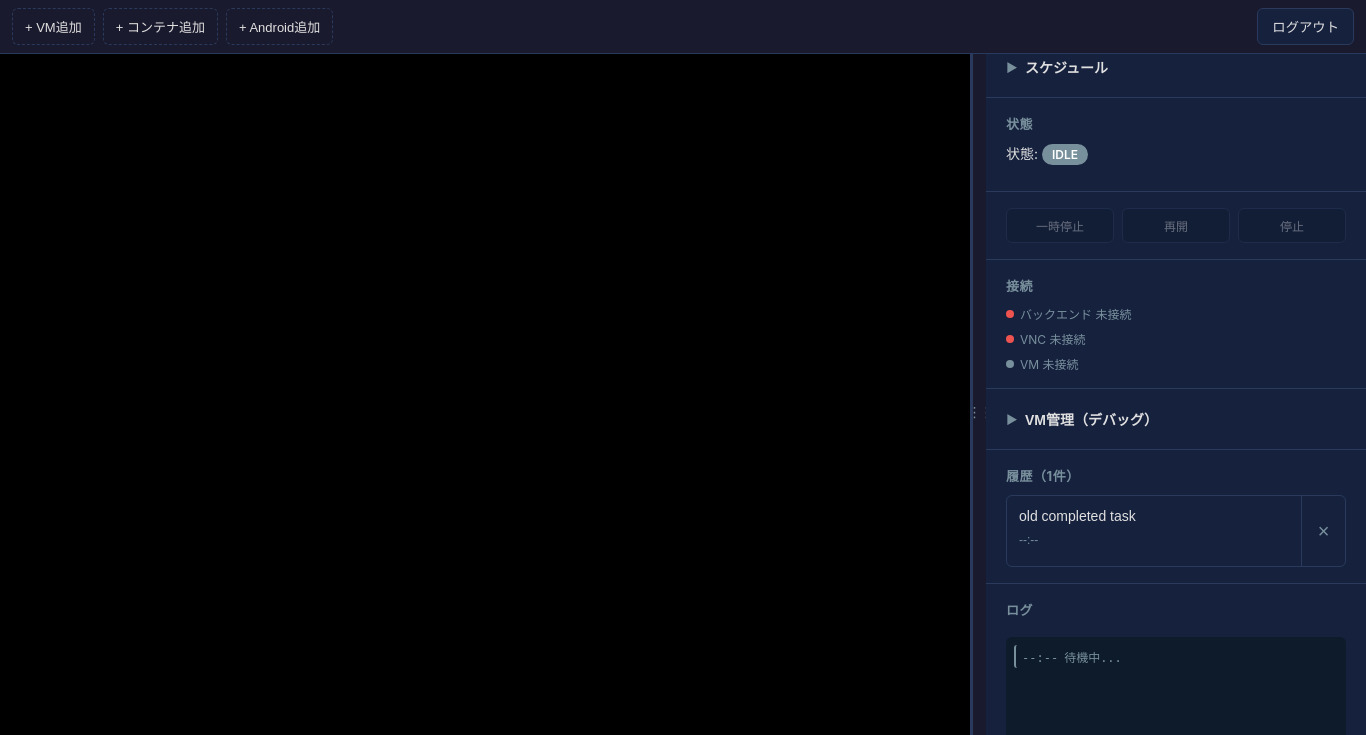
Test case: a late initial VM list cannot switch away from an archived history selection
(page scrolled)
Click the button titled "old completed task" at (1077, 516), box [1007, 496, 1301, 566]
(page scrolled)
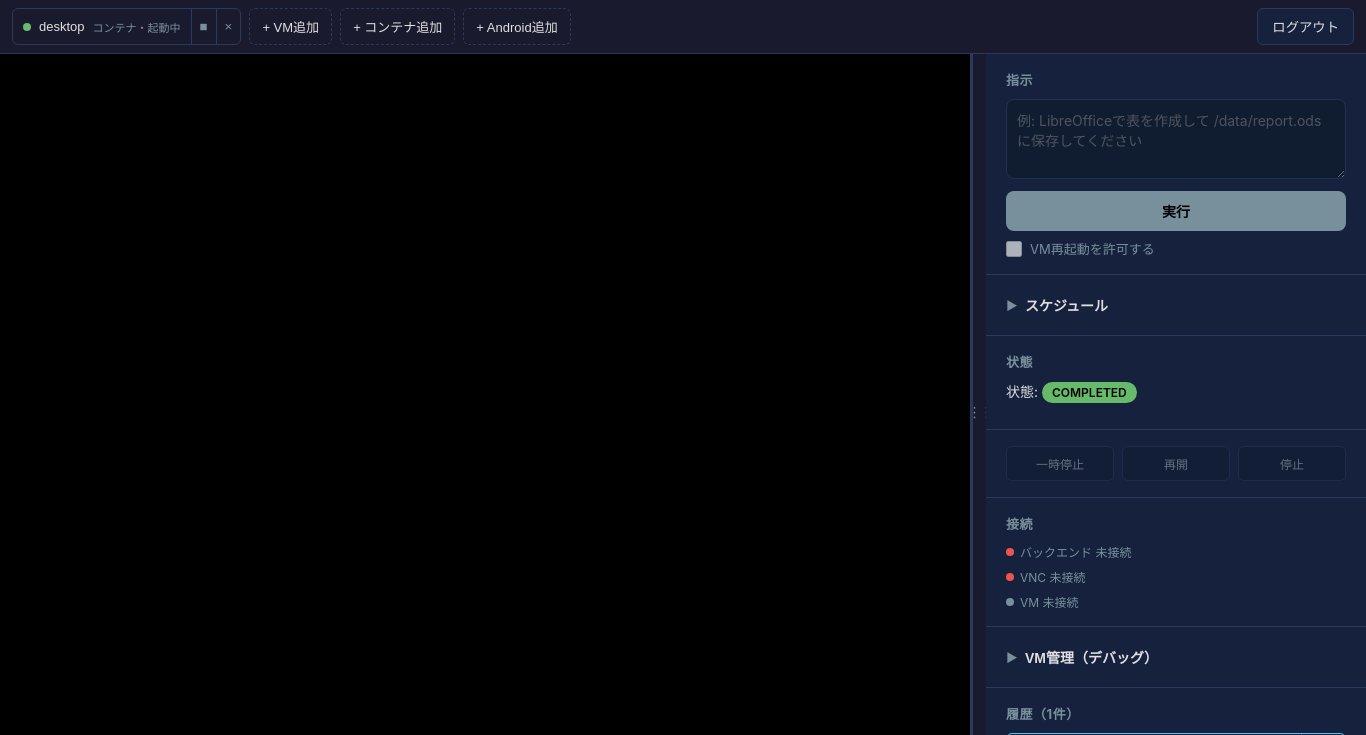
Result: the text box named "指示" is disabled at [1006, 99, 1346, 179]
